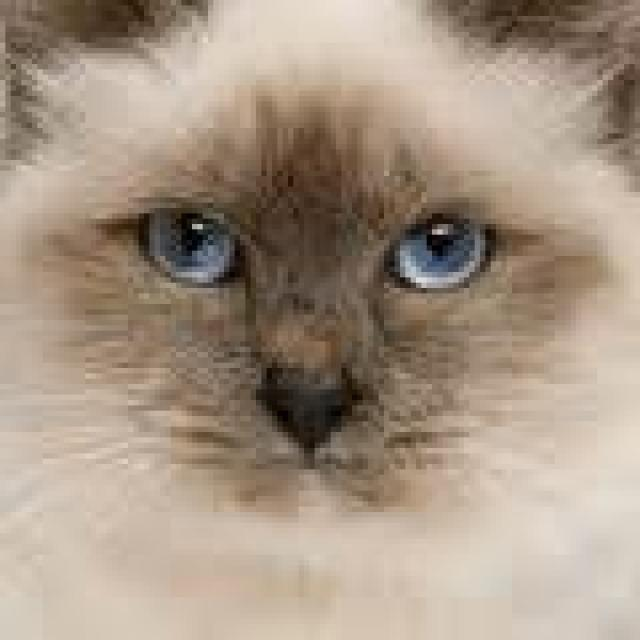animal: (0, 0, 635, 635)
